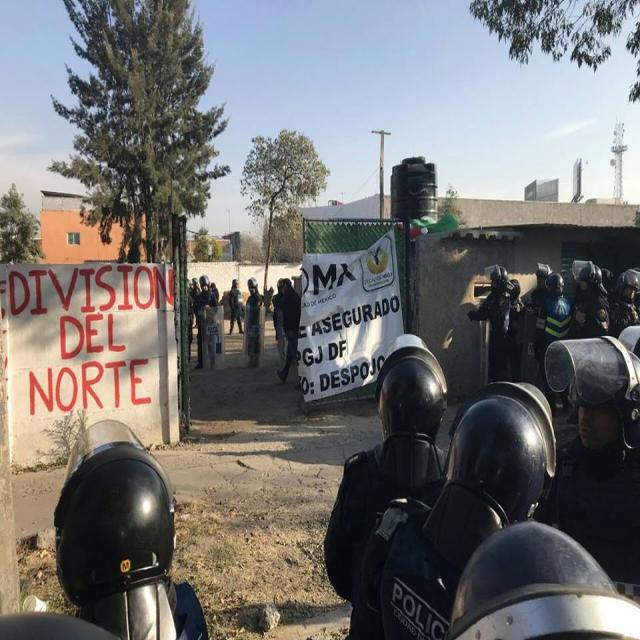stamps: (298, 231, 401, 400)
